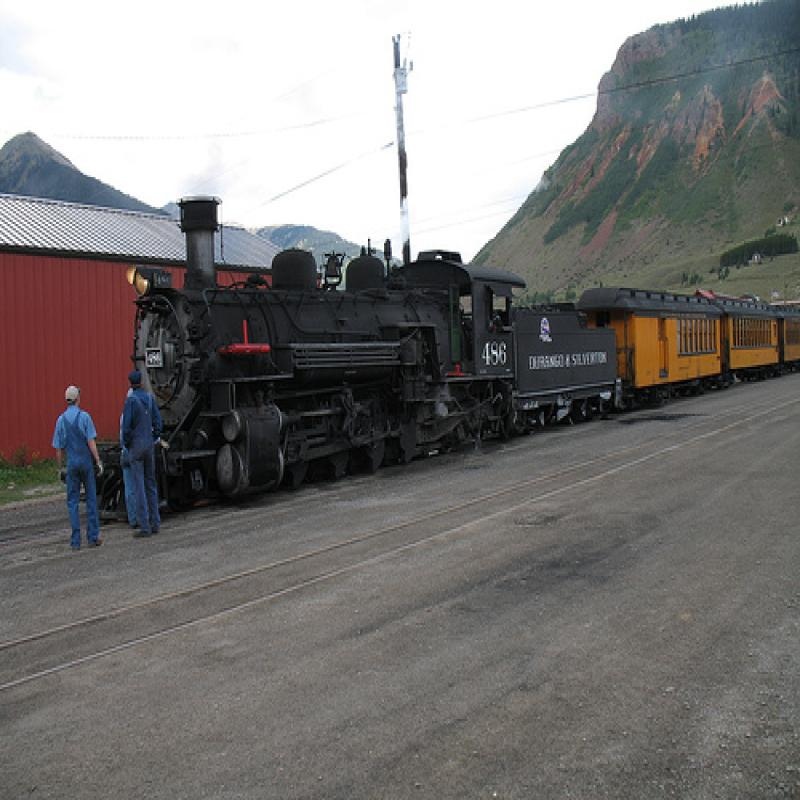train: (57, 198, 799, 520)
